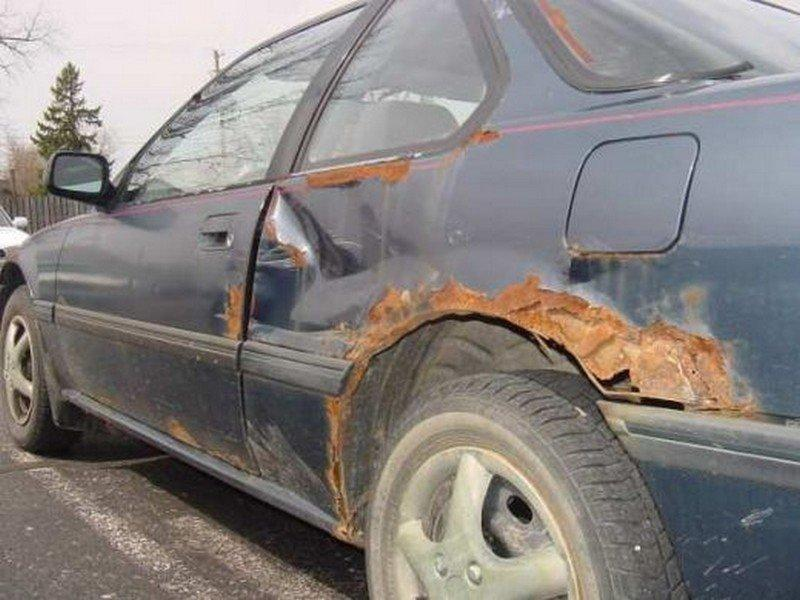corrosion: (337, 272, 635, 390), (580, 316, 774, 409), (303, 383, 368, 543), (204, 275, 273, 355), (291, 159, 419, 193)
